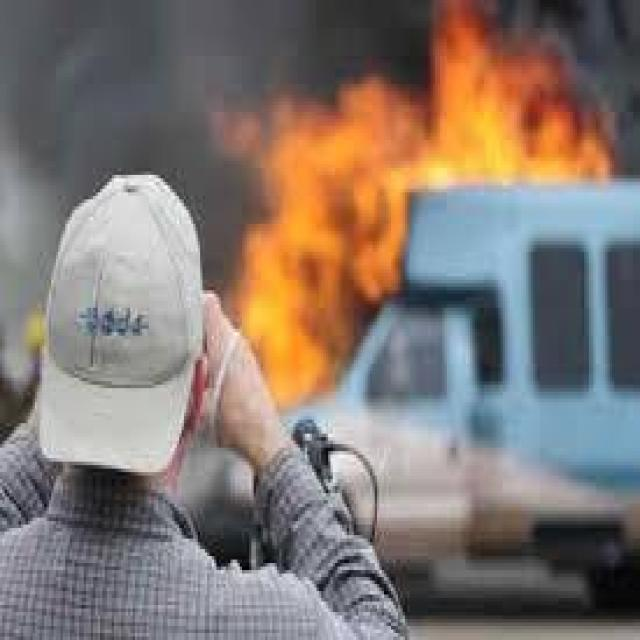fire: (161, 14, 616, 402)
